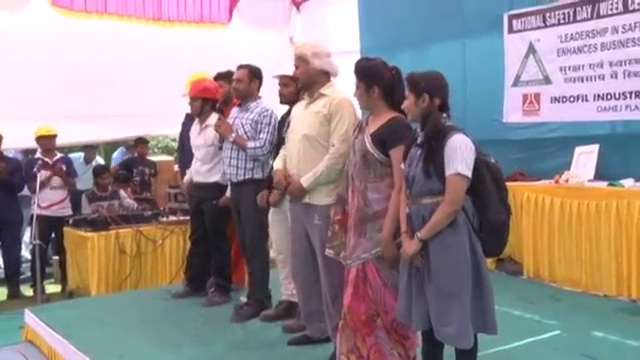helmet: (182, 79, 221, 103), (268, 55, 300, 81), (32, 126, 57, 143)
helmet_off: (347, 59, 399, 118), (400, 69, 450, 126), (288, 43, 336, 91), (225, 64, 263, 110), (212, 70, 239, 115), (91, 162, 114, 196), (131, 139, 151, 160), (81, 142, 100, 164)
helmet_on: (181, 77, 221, 122), (267, 57, 300, 105), (33, 126, 58, 154)
person: (400, 67, 514, 360), (277, 39, 355, 360), (343, 59, 408, 360), (214, 63, 278, 325), (259, 55, 301, 334), (175, 76, 225, 309), (26, 126, 76, 299), (0, 132, 30, 303), (80, 164, 150, 216), (109, 137, 157, 201), (69, 143, 108, 214)
